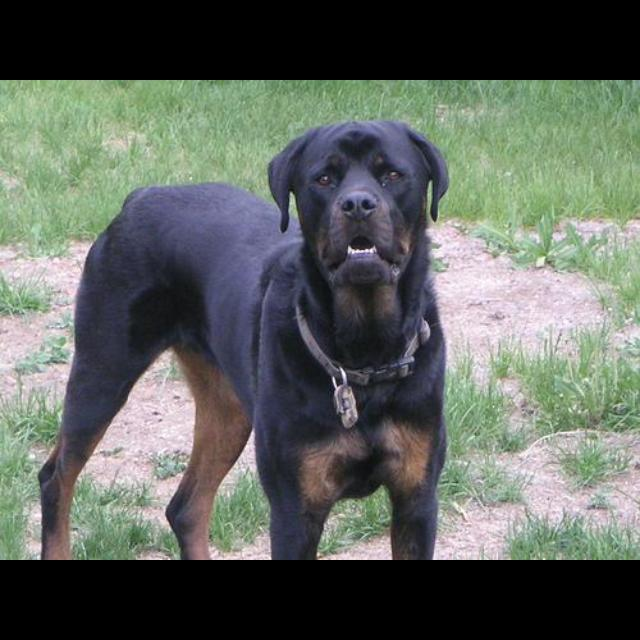rottweiler: (37, 120, 451, 560)
